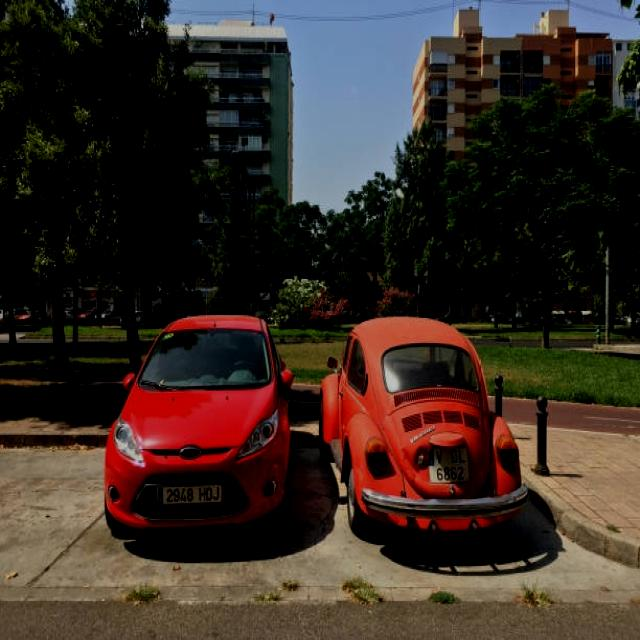car: (319, 327, 527, 538), (106, 317, 296, 527)
